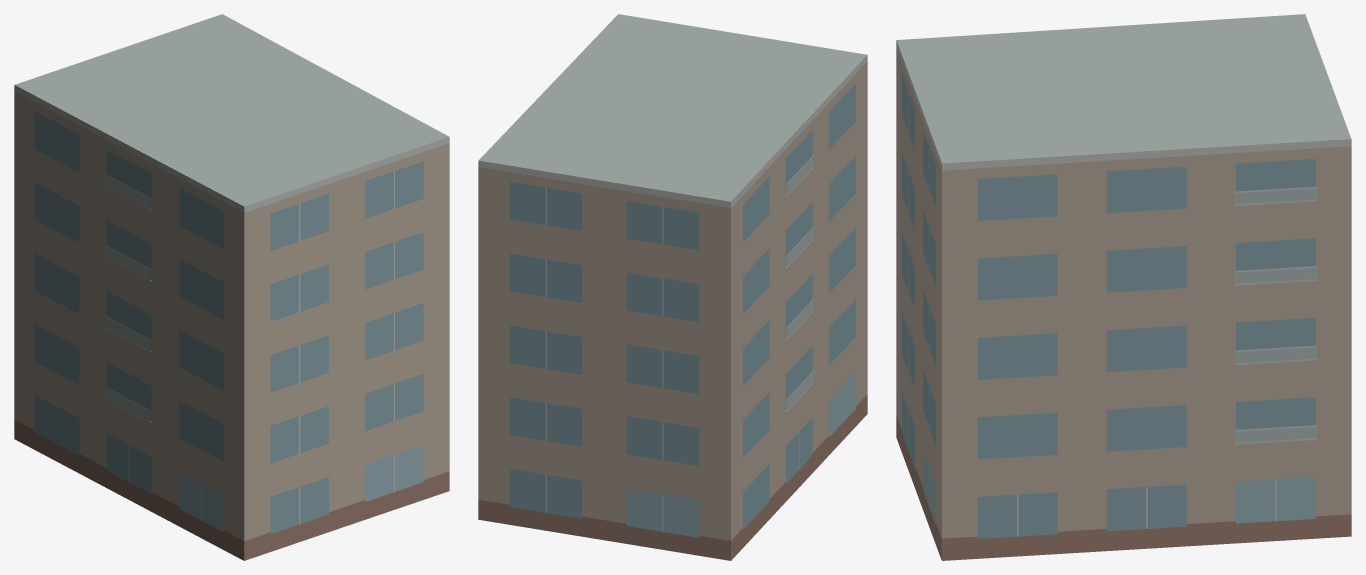
The model's file is survey-upis-32831932.glb.
3 views of the same model, side by side, from view 1: azimuth 30°, elevation 25°; view 2: azimuth 150°, elevation 25°; view 3: azimuth 270°, elevation 25° (orthographic). The views are drawn at different scales.
Parts seen in each view (by area): view 1: survey-upis-32831932.tmp; view 2: survey-upis-32831932.tmp; view 3: survey-upis-32831932.tmp.
Part boxes in pixels (x1,y1,x2,y2): survey-upis-32831932.tmp: [14, 14, 449, 560]; survey-upis-32831932.tmp: [478, 14, 867, 560]; survey-upis-32831932.tmp: [896, 14, 1351, 560].
Size of the model in its own units: 11.02 by 13.65 by 14.18.
